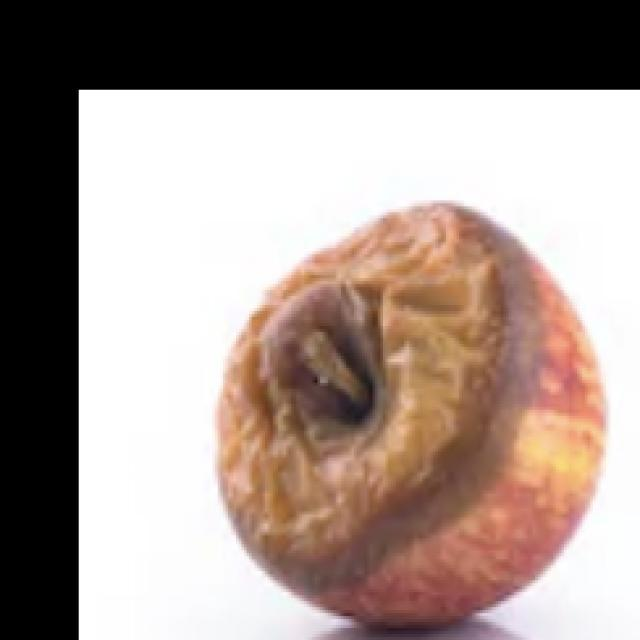Rotten: (205, 193, 608, 632)
